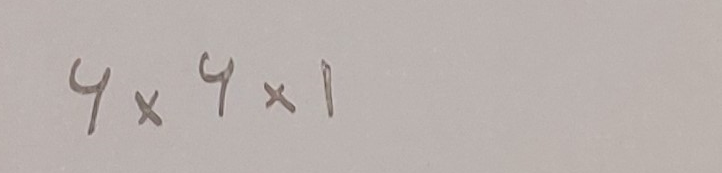character: (69, 58, 110, 136), (199, 51, 234, 117), (262, 80, 296, 113), (135, 89, 163, 125), (321, 59, 334, 116)
